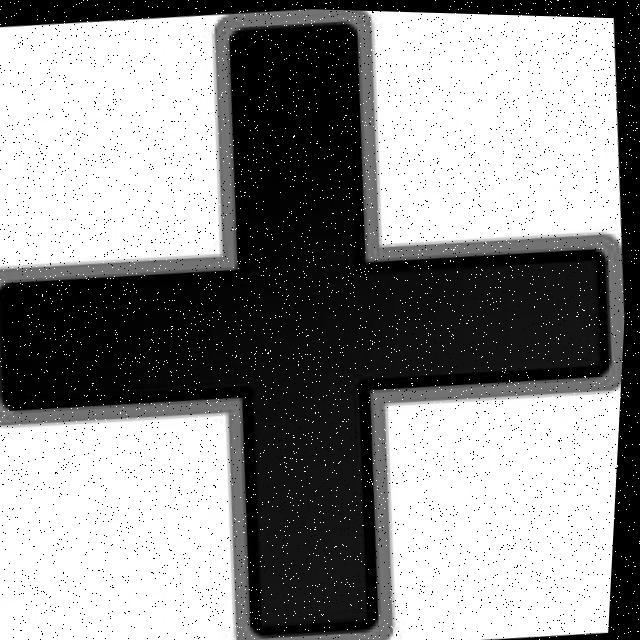cross: (0, 24, 625, 640)
